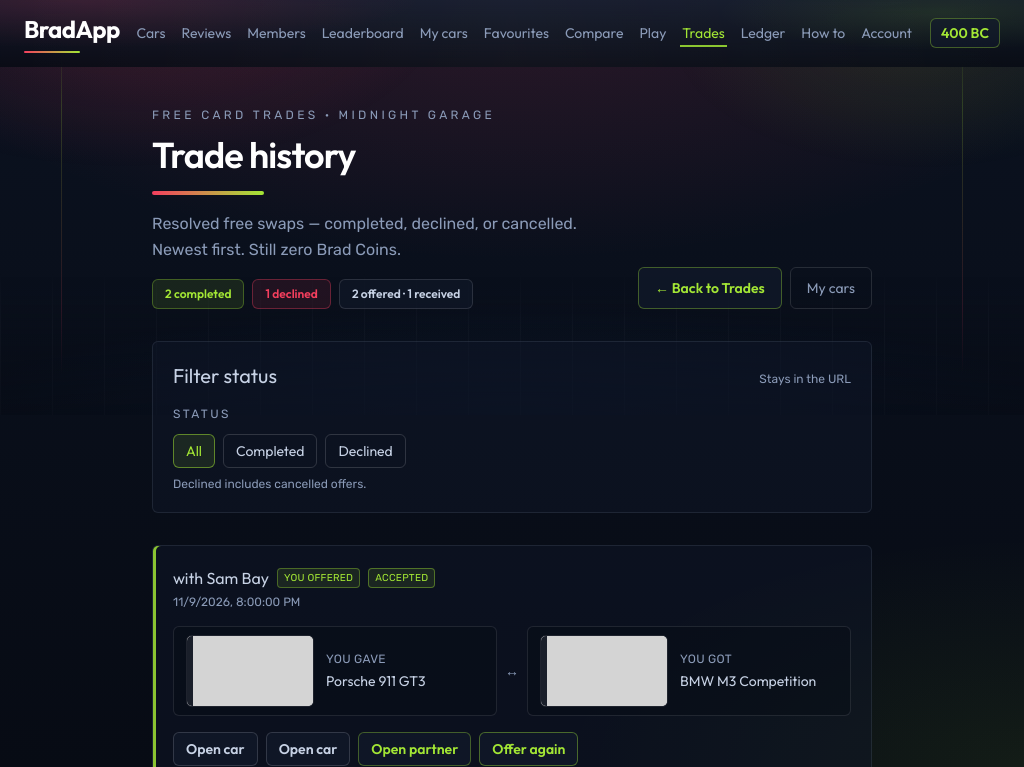
TradeHistoryPage Midnight Garage UI › filters completed and declined with status chips in the URL
Expected: the text "with Sam Bay" is shown, [173,566,269,590]
Click the button "Completed": (270, 451) [223,434,318,468]
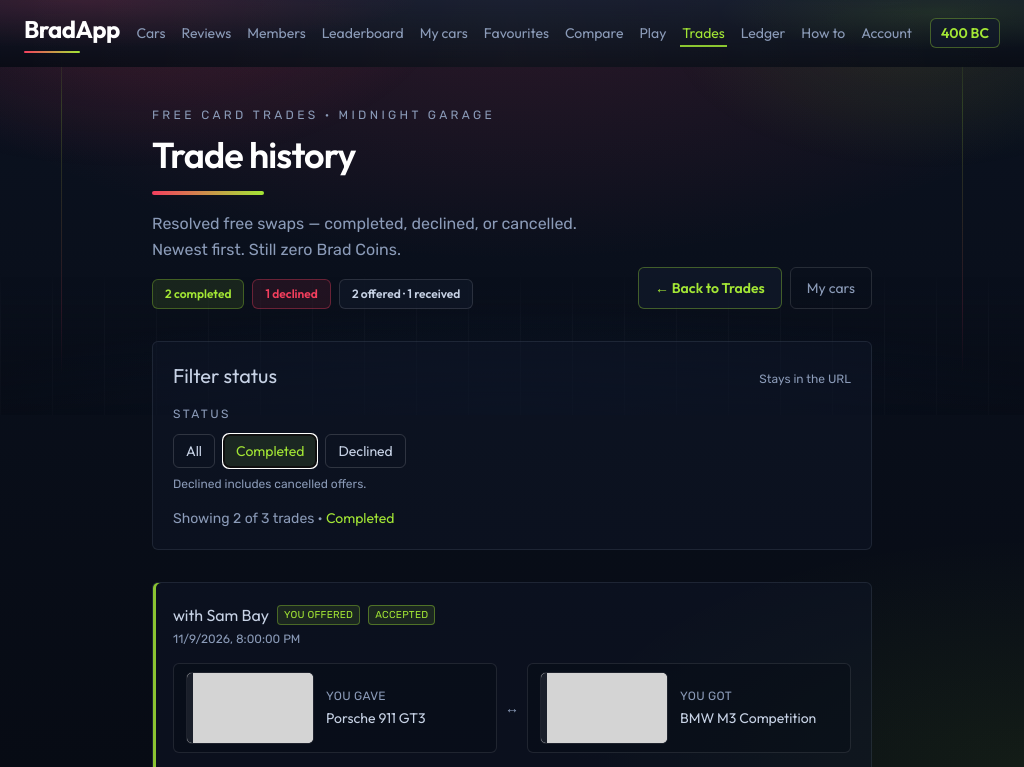
Expected: the text "with Sam Bay" is shown, [173,603,269,627]
Click the button "Declined": (366, 451) [325,434,406,468]
(page scrolled)
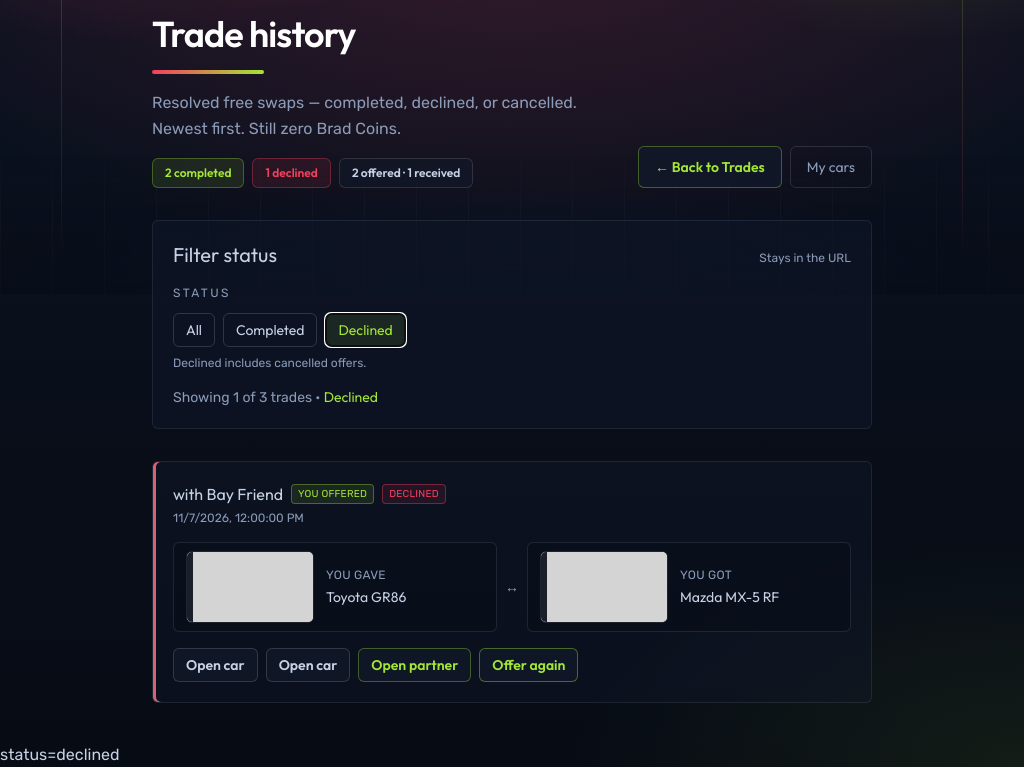
Now the text with test id "trades-history-params" reads "status=declined", box [0,745,120,764]
Now the text "with Bay Friend" is shown, box [173,482,283,506]
Now the text "with Sam Bay" is gone
